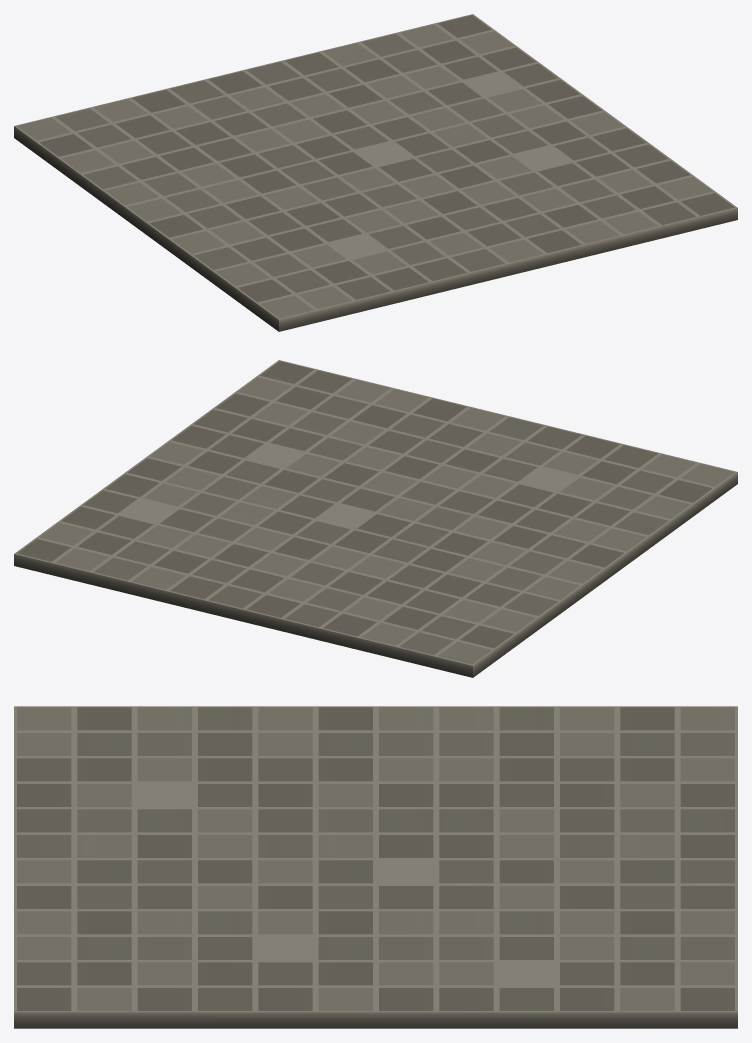
File: Pavement_Special_1A_12X12.fbx
The picture shows the model from 3 angles, top to bottom: view 1: azimuth 30°, elevation 25°; view 2: azimuth 150°, elevation 25°; view 3: azimuth 270°, elevation 25°; orthographic projection. The views are drawn at different scales.
Visible parts, largest first — view 1: Pavement_Special_1A_12X12; view 2: Pavement_Special_1A_12X12; view 3: Pavement_Special_1A_12X12.
Part boxes in pixels (x1=…): Pavement_Special_1A_12X12: x1=14, y1=14, x2=737, y2=331; Pavement_Special_1A_12X12: x1=14, y1=360, x2=737, y2=677; Pavement_Special_1A_12X12: x1=14, y1=706, x2=737, y2=1028.
Size of the model in its own units: 1200 by 30.31 by 1200.
